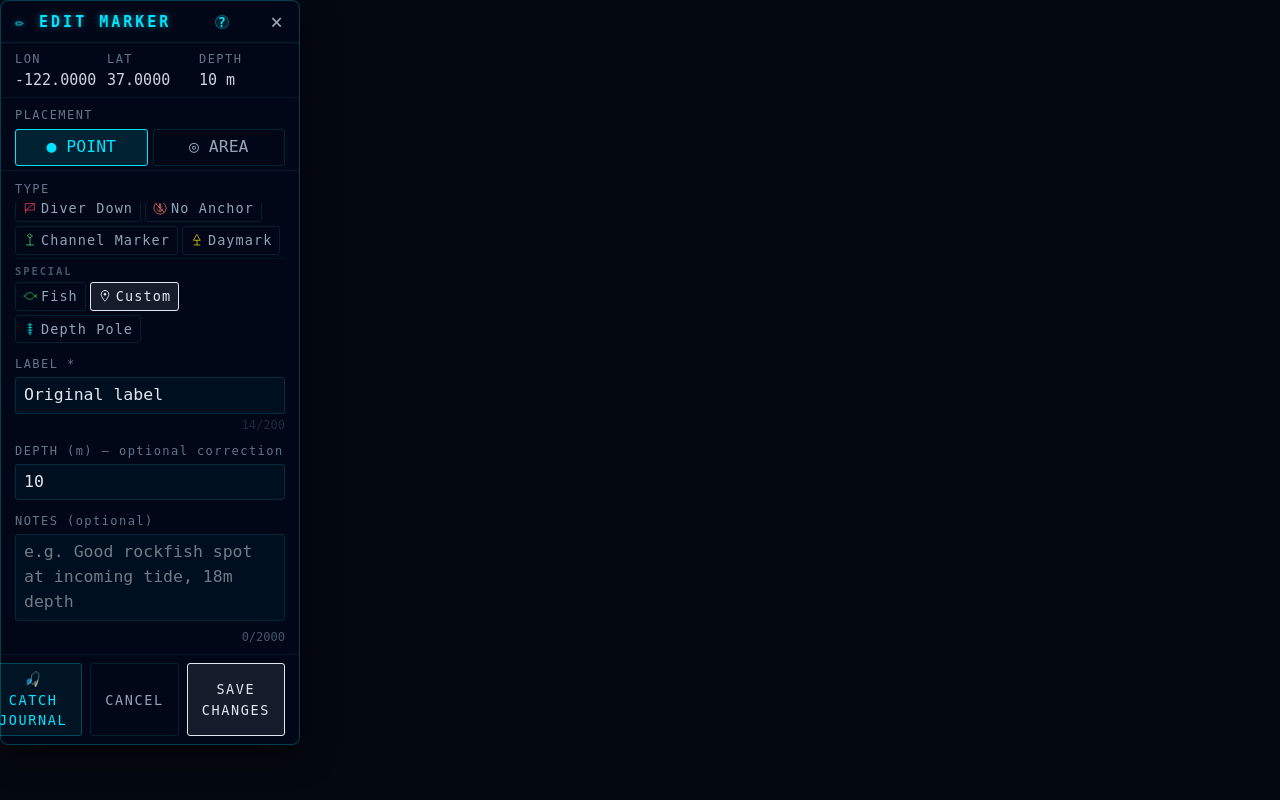
Scenario: MarkerForm — Escape key (edit mode, dirty form) › opens the discard AlertDialog when form is dirty and Escape is pressed
The width and height of the screenshot is (1280, 800).
(page scrolled)
Replace the text in the field showing "Original label" with "Changed label" at (150, 395), box [15, 377, 285, 414]
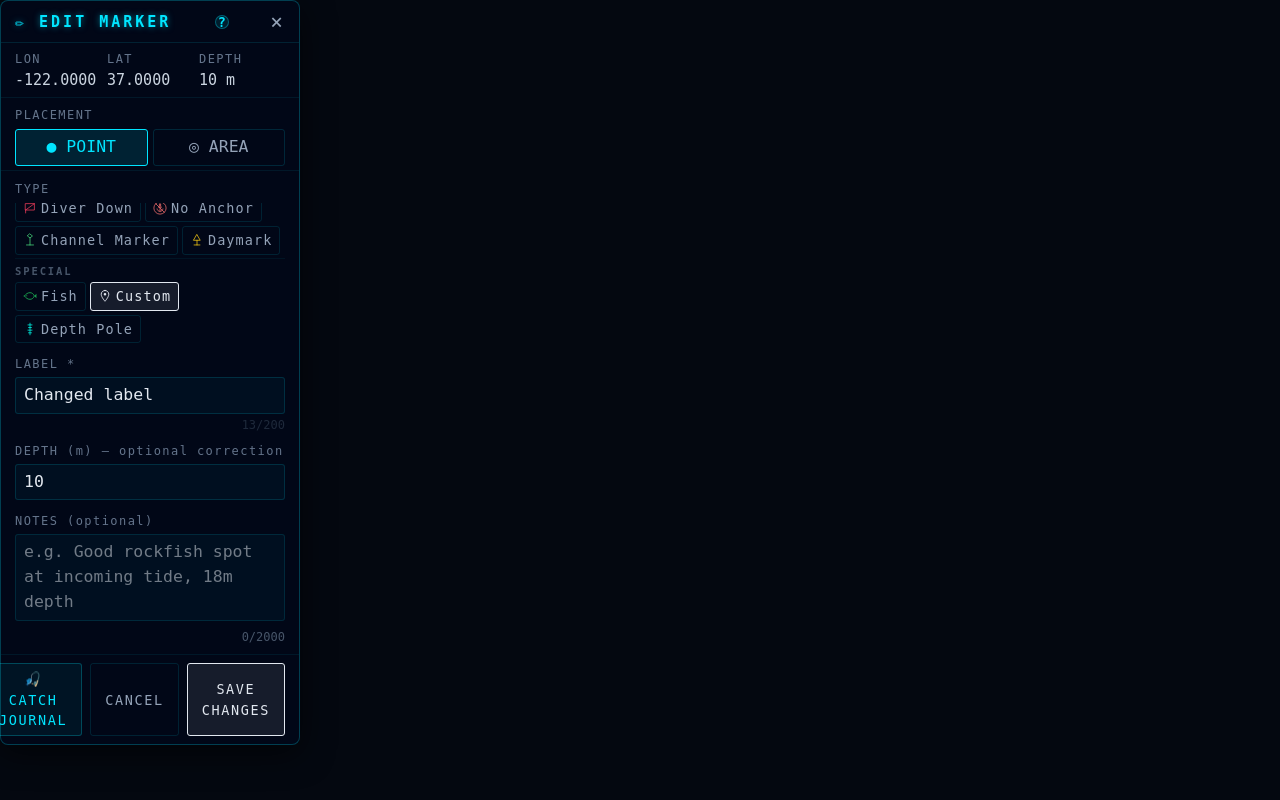
Press Escape
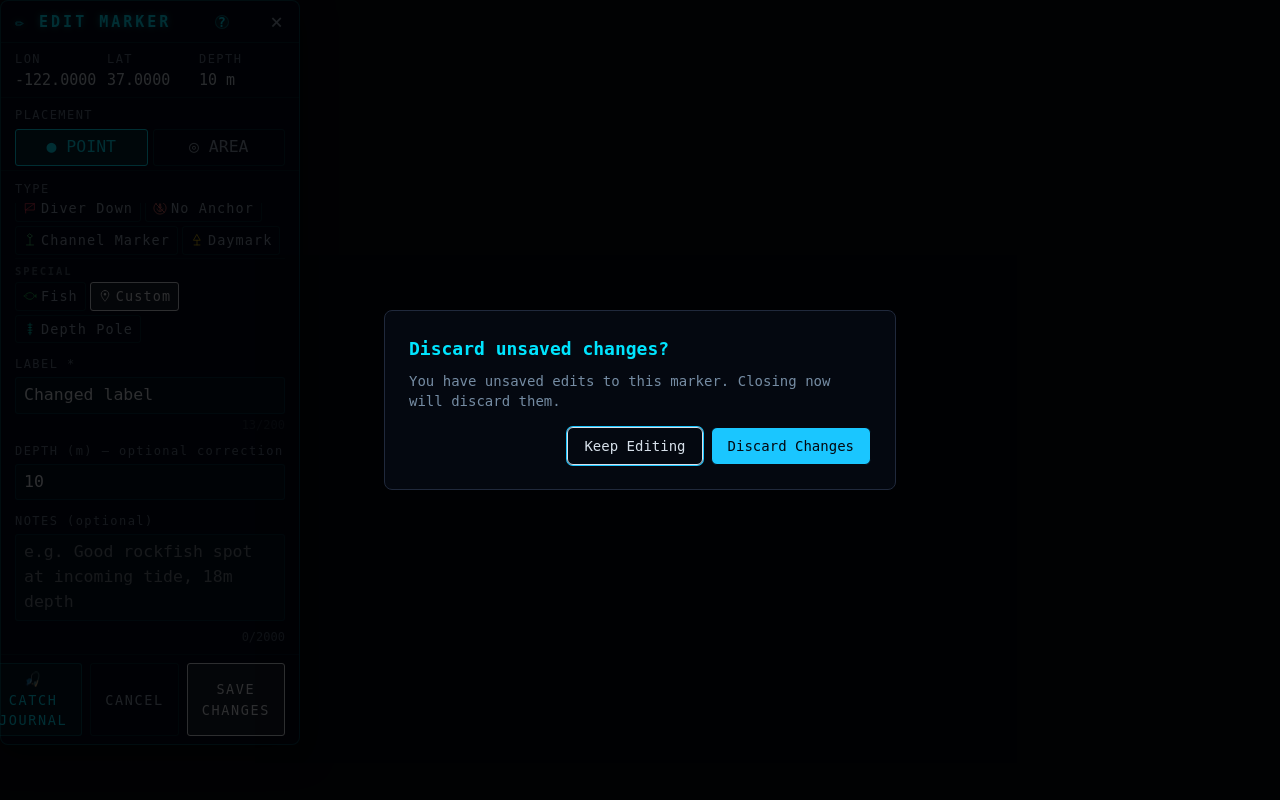
Check: the heading "Discard unsaved changes?" is shown, box [409, 338, 669, 359]
